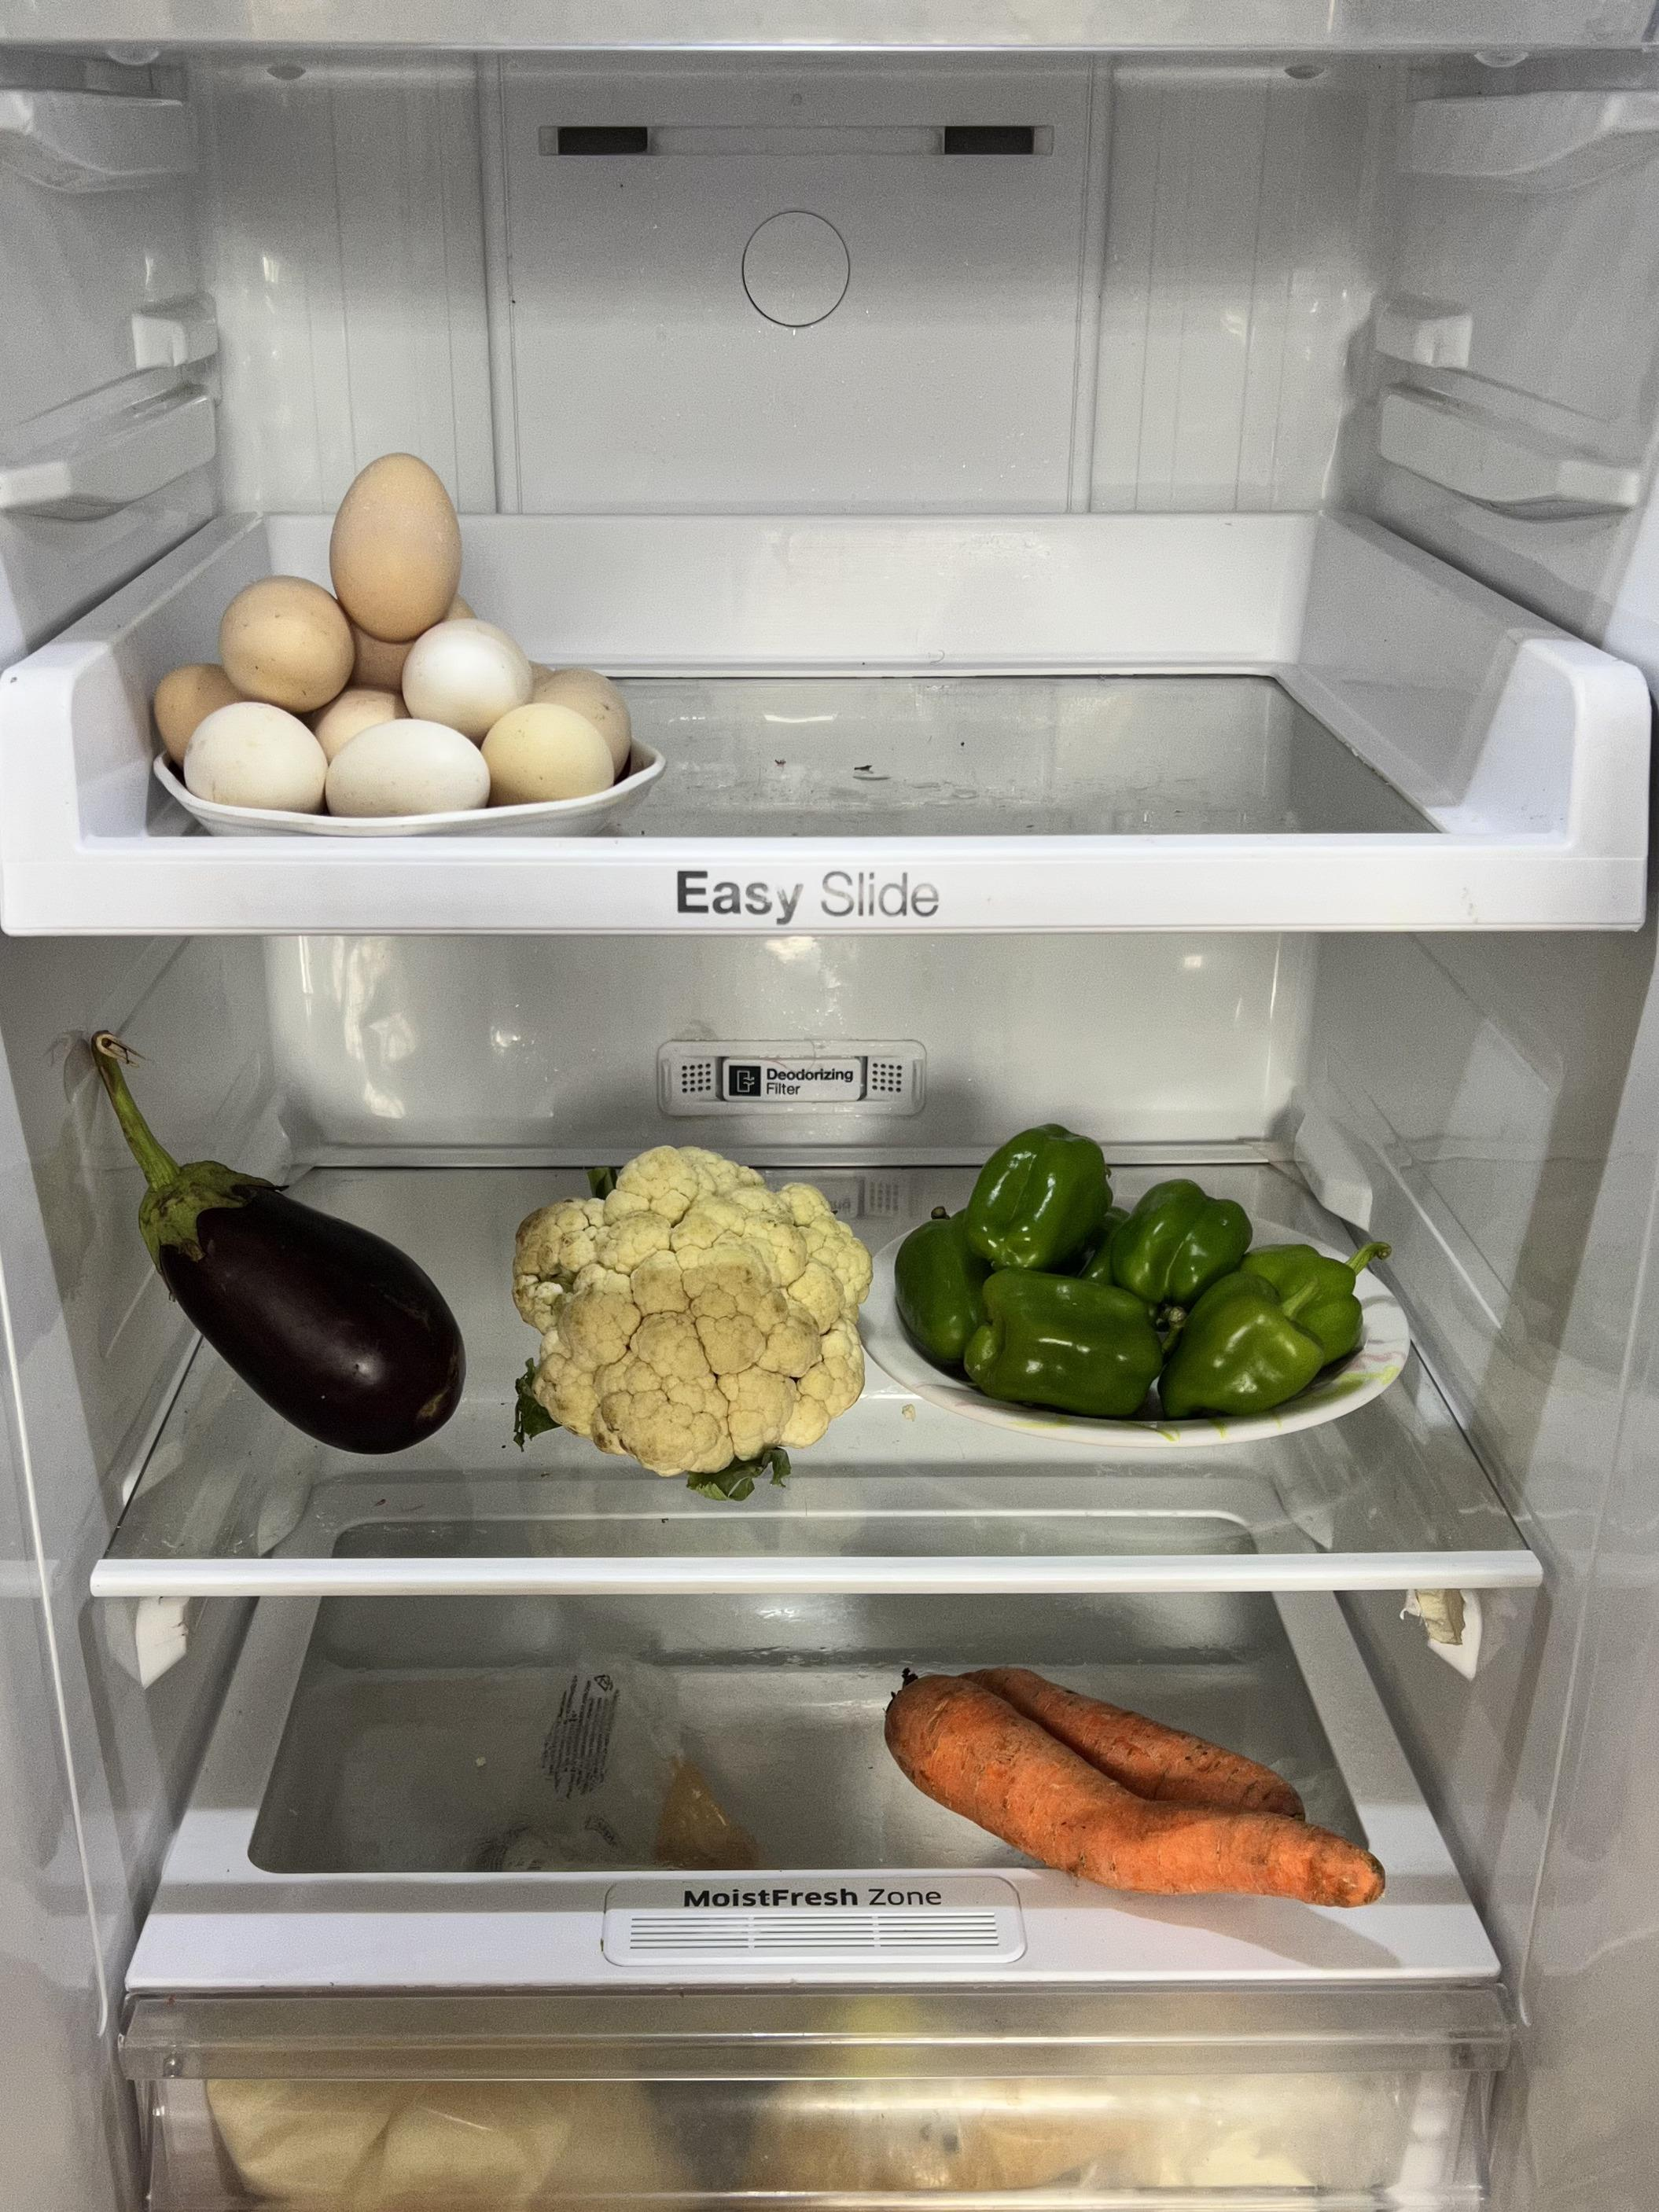bringal: (78, 1010, 472, 1456)
capsicum: (894, 1106, 1387, 1426)
carrots: (877, 1637, 1394, 1919)
cauliflower: (518, 1136, 868, 1477)
egg: (136, 448, 638, 810)
